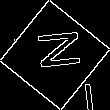N_W: (28, 32, 82, 78)
